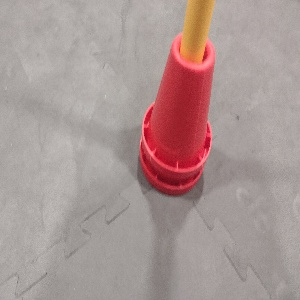Red_2: (140, 28, 215, 196)
